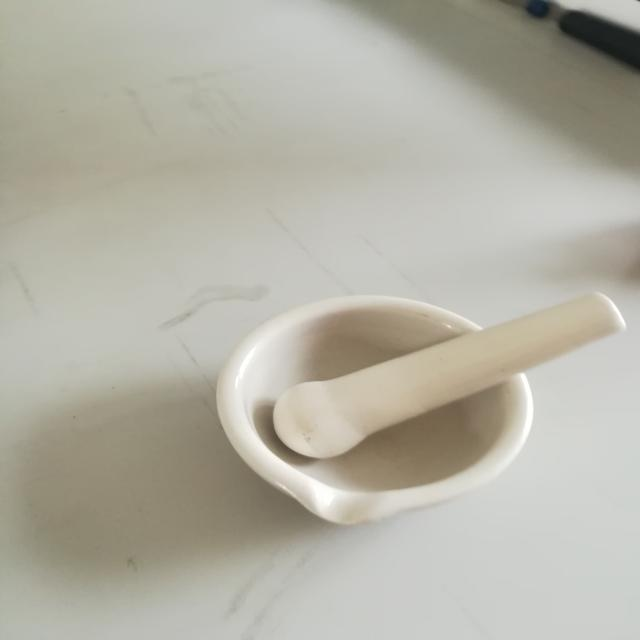Porcelain_Mortar Pestle: (146, 247, 640, 557)
